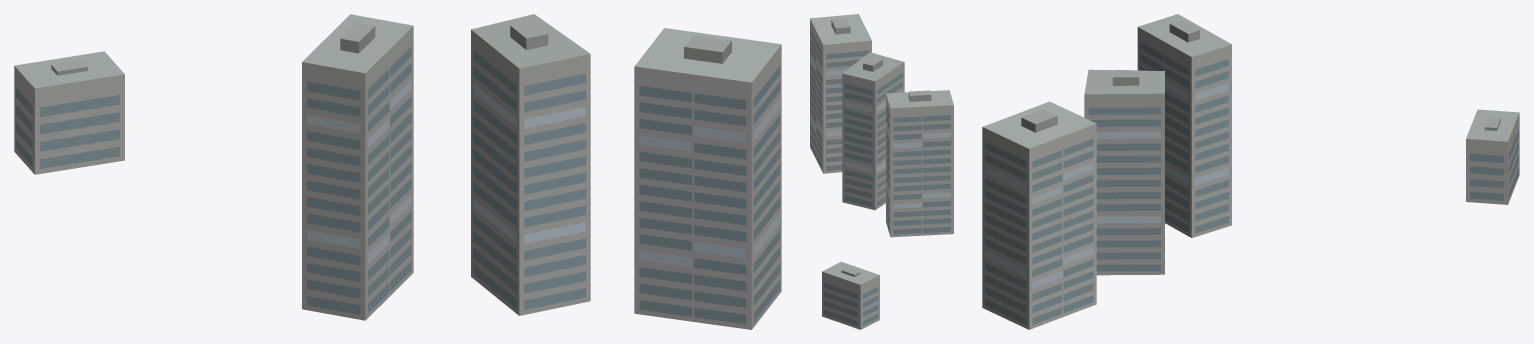
Rendered from apt-a41279930.glb.
3 renders of one model, left to right at view 1: azimuth 30°, elevation 25°; view 2: azimuth 150°, elevation 25°; view 3: azimuth 270°, elevation 25°, orthographic. The views are drawn at different scales.
Parts seen in each view (by area): view 1: apt-a41279930; view 2: apt-a41279930; view 3: apt-a41279930.
Boxes of the visible parts, box(x1,y1,x2,y2) form: apt-a41279930: box(14, 14, 781, 329); apt-a41279930: box(810, 14, 953, 329); apt-a41279930: box(982, 14, 1519, 329).
Size of the model in its own units: 76.54 by 43 by 110.
